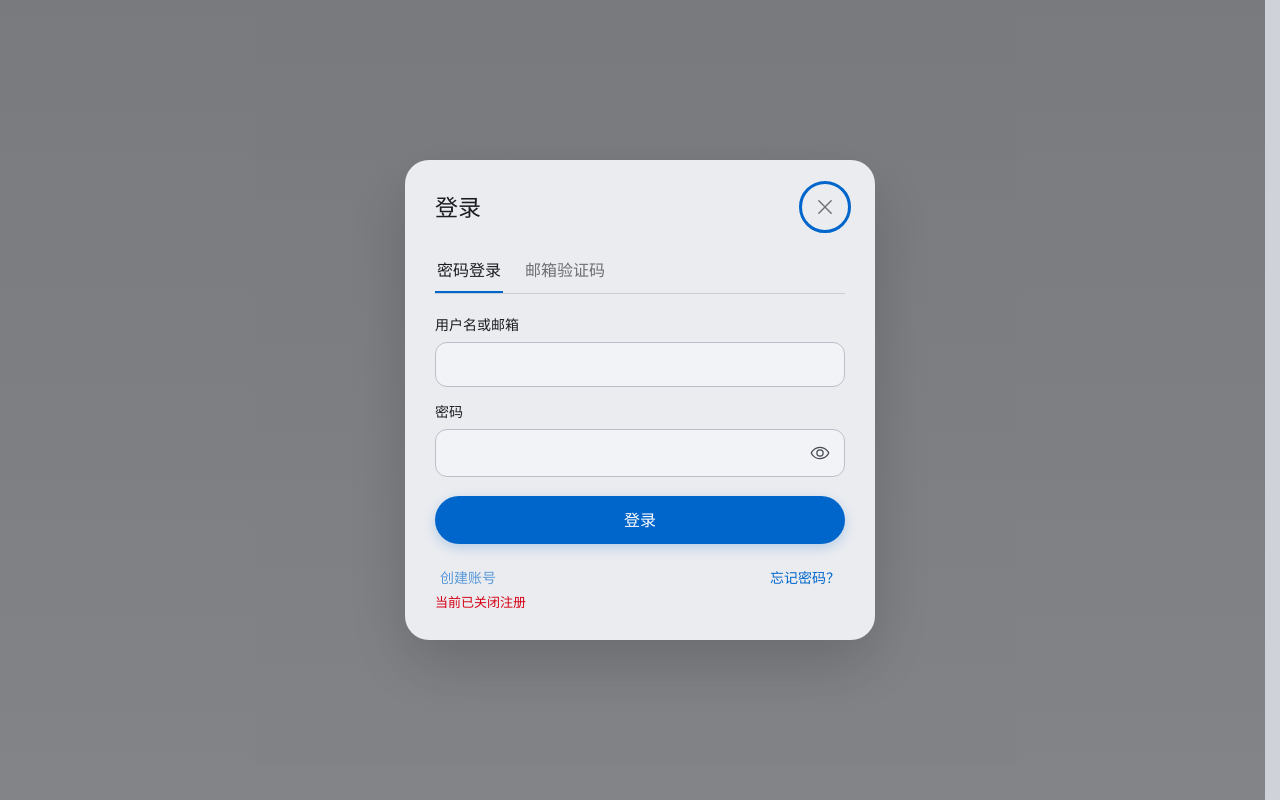
Test: explains closed registration before submission while preserving login and password reset
Expected: the button "创建账号" is disabled, [435, 562, 501, 593]
Expected: the text "当前已关闭注册" is shown, [435, 593, 526, 611]
Click the button "忘记密码？".
click(805, 577)  # box [765, 562, 845, 593]
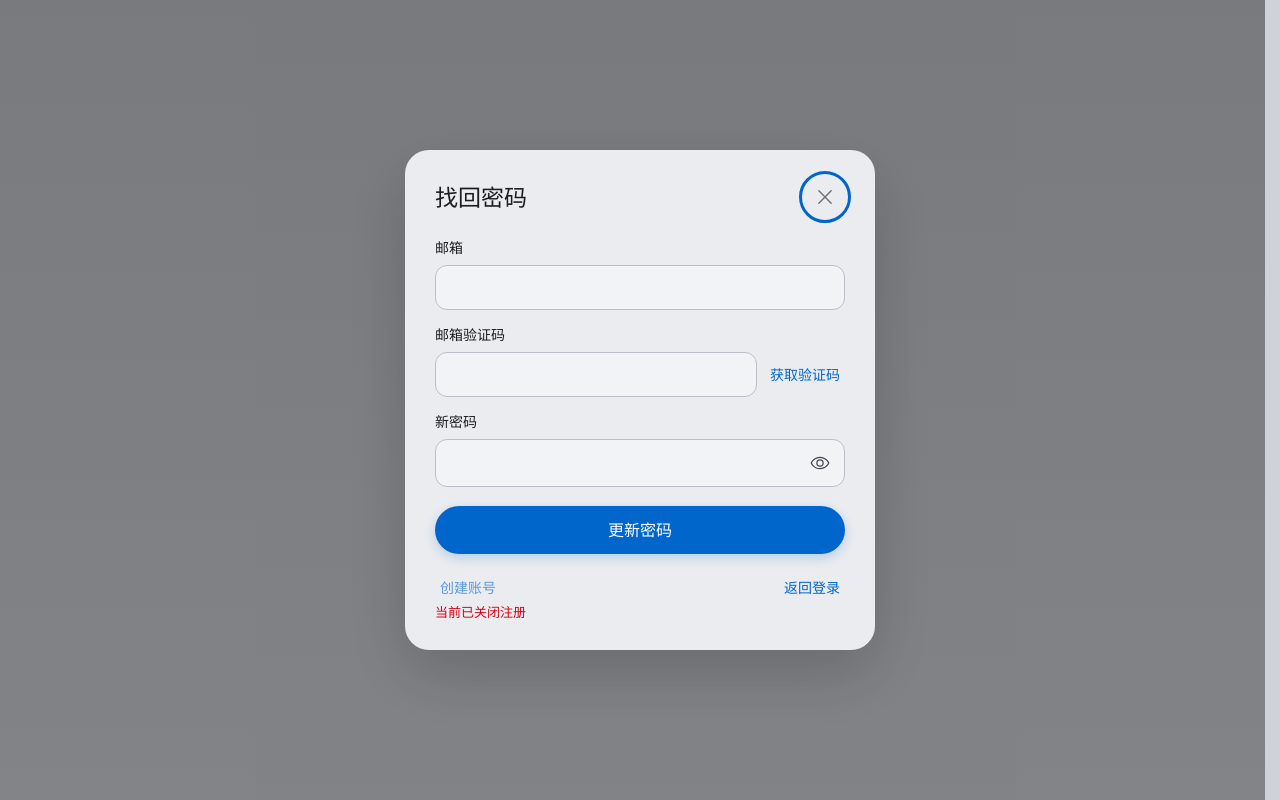
Now the dialog "找回密码" is shown, box [405, 150, 875, 650]
